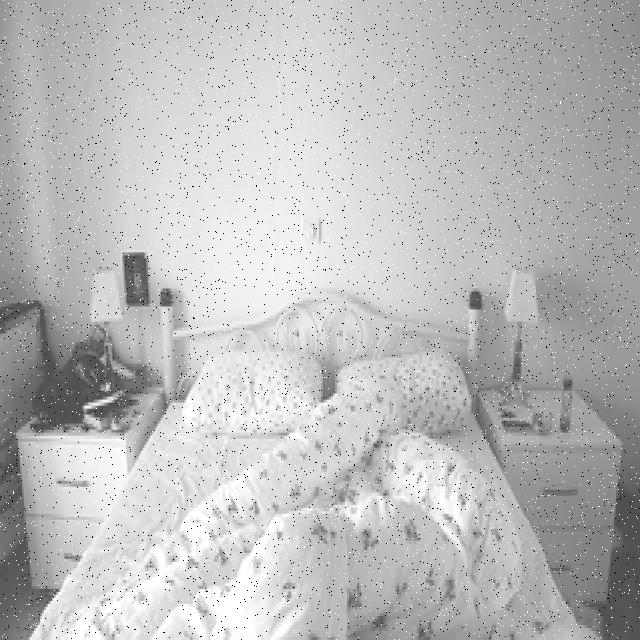bed: (74, 336, 573, 640)
